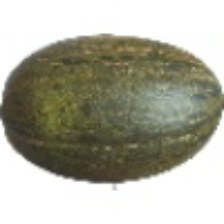honeydew: (39, 10, 224, 205)
